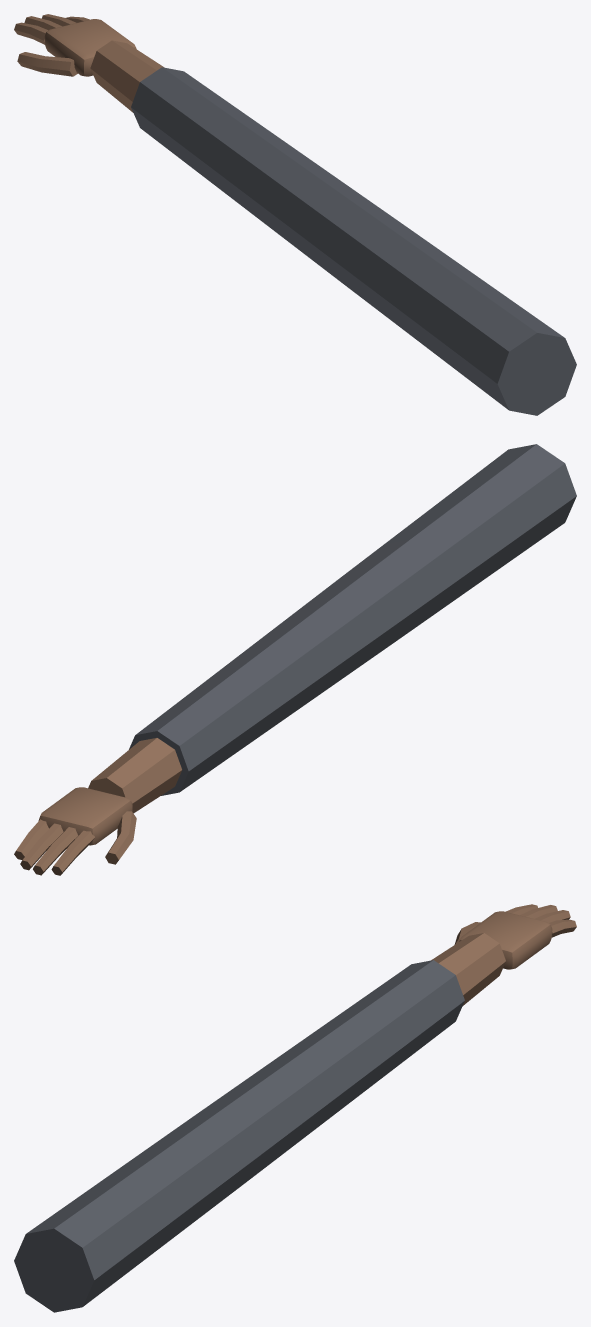
File: braco.glb
3 renders of one model, top to bottom at view 1: azimuth 30°, elevation 25°; view 2: azimuth 150°, elevation 25°; view 3: azimuth 330°, elevation 25°, orthographic.
Visible parts, largest first — view 1: braco; view 2: braco; view 3: braco.
Boxes of the visible parts, bbox=[...] form: braco: bbox=[14, 14, 576, 415]; braco: bbox=[14, 444, 576, 875]; braco: bbox=[14, 904, 576, 1312].
Bounding box in the file's own units: 0.1289 × 0.11 × 1.2.
